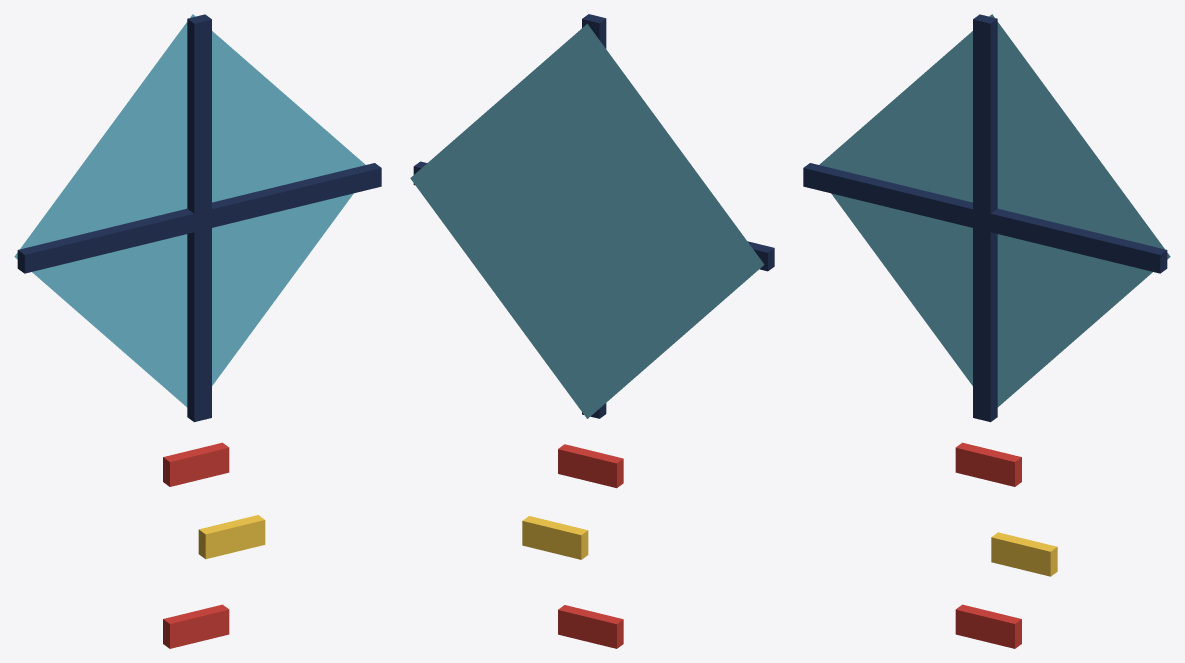
The model's file is kite.glb.
The picture shows the model from 3 angles, left to right: view 1: azimuth 30°, elevation 25°; view 2: azimuth 150°, elevation 25°; view 3: azimuth 330°, elevation 25°; orthographic projection.
Visible parts, largest first — view 1: Model; view 2: Model; view 3: Model.
Boxes of the visible parts, x1=… form: Model: x1=14, y1=14, x2=381, y2=648; Model: x1=410, y1=14, x2=774, y2=648; Model: x1=803, y1=14, x2=1170, y2=648.
Bounding box in the file's own units: 0.6 × 1 × 0.03.
Materials: 1 (1 with a texture image).
